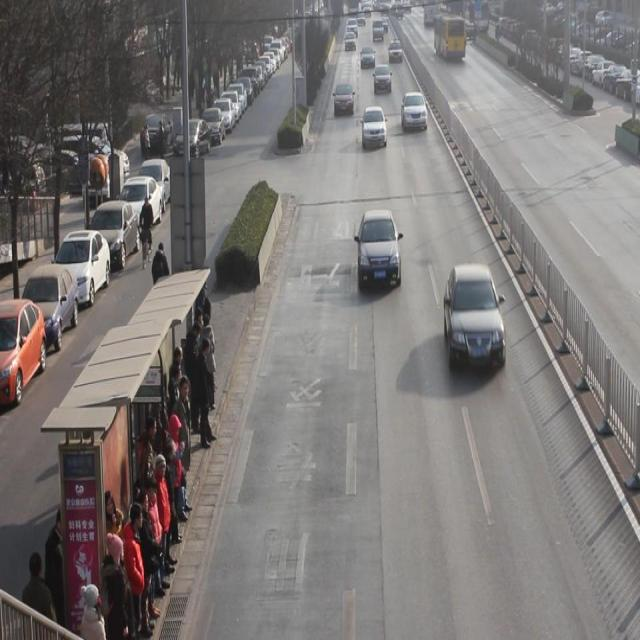car: (444, 263, 508, 375), (358, 210, 402, 292), (362, 106, 388, 150), (402, 91, 429, 132), (335, 82, 355, 117), (374, 63, 393, 96)
